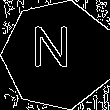N_S: (37, 30, 78, 80)
